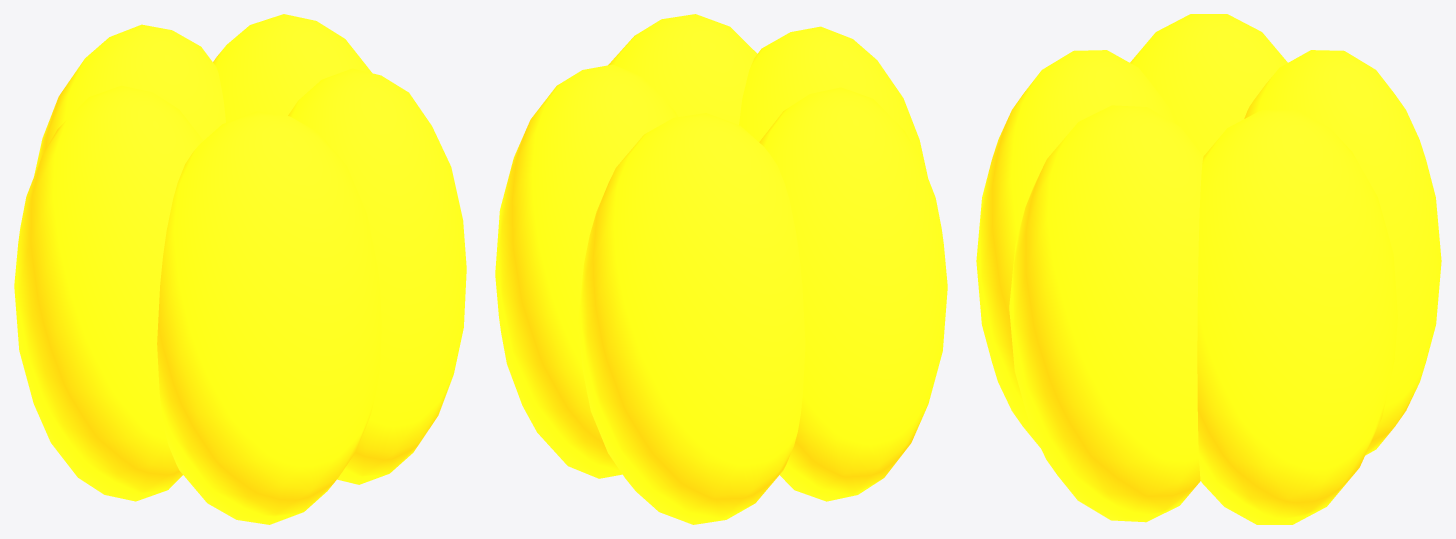
3 renders of one model, left to right at view 1: azimuth 30°, elevation 25°; view 2: azimuth 150°, elevation 25°; view 3: azimuth 270°, elevation 25°, orthographic.
Parts seen in each view (by area): view 1: Icosphere.050; view 2: Icosphere.050; view 3: Icosphere.050.
Boxes of the visible parts, bbox=[...] form: Icosphere.050: bbox=[14, 14, 466, 524]; Icosphere.050: bbox=[495, 14, 947, 524]; Icosphere.050: bbox=[976, 14, 1441, 524].
Bounding box in the file's own units: 114 × 113 × 116.
